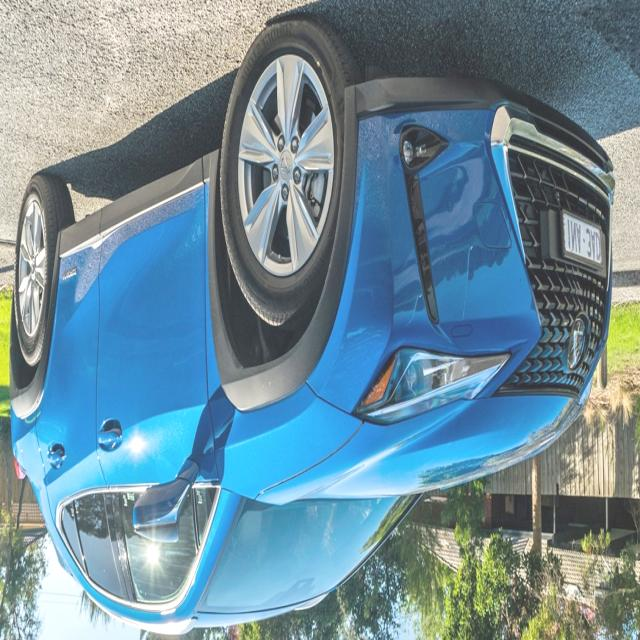blue: (11, 30, 614, 631)
